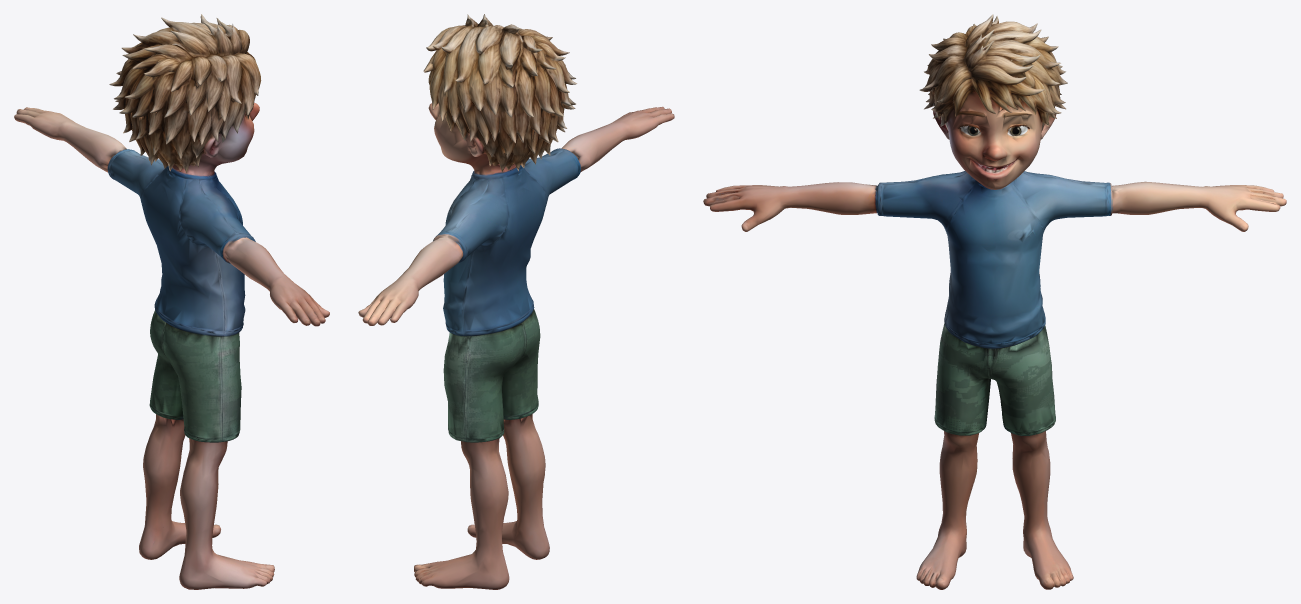
Rendered from theo-3.glb.
3 renders of one model, left to right at view 1: azimuth 30°, elevation 25°; view 2: azimuth 150°, elevation 25°; view 3: azimuth 270°, elevation 25°, orthographic.
Parts seen in each view (by area): view 1: theo3; view 2: theo3; view 3: theo3.
Part boxes in pixels (box(x1,y1,x2,y2)): theo3: box(14, 14, 329, 589); theo3: box(358, 14, 674, 589); theo3: box(703, 14, 1286, 589).
Size of the model in its own units: 0.2588 by 0.9796 by 0.9565.
1 material, 1 textured.
